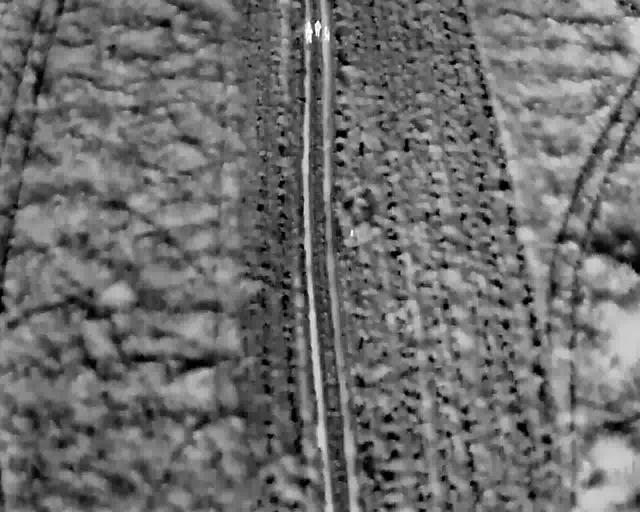person: (322, 23, 332, 43), (312, 19, 322, 38), (304, 24, 314, 43), (303, 18, 313, 37)
